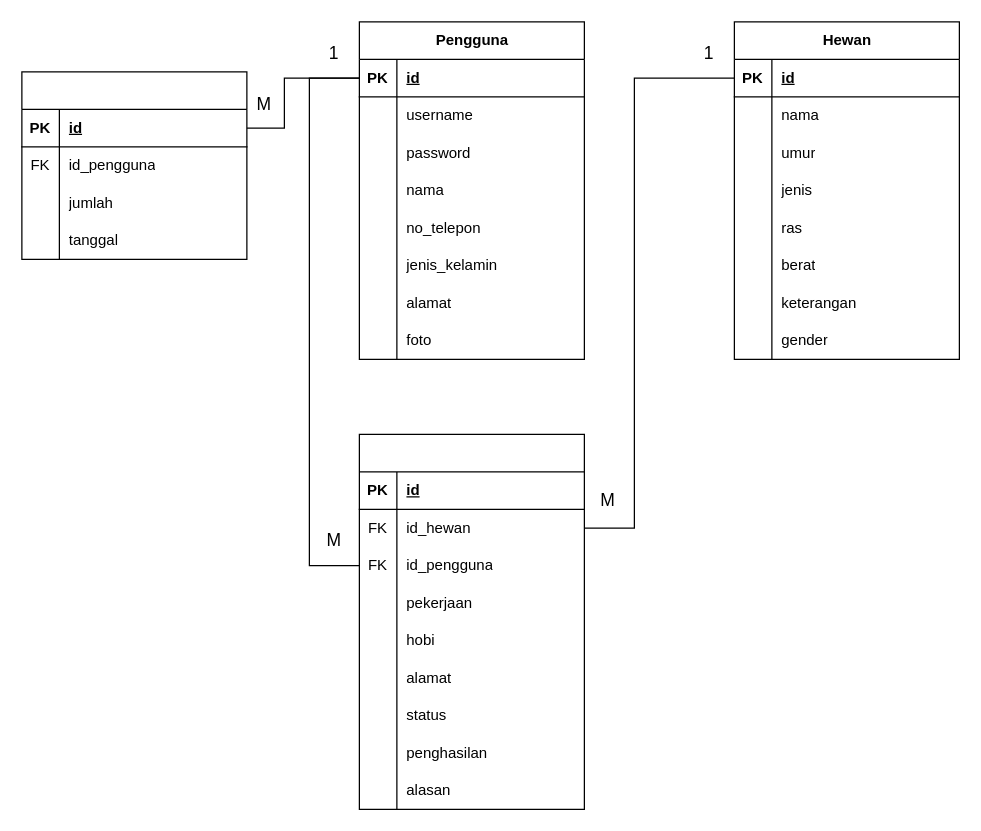
Image size: 981x831. Some labels were removed from this diagram. The shapes that lost their labels are listed below. From the top down, each one's box as (x1, y1, x2, y2) in pixels, then its label:
(21, 71, 247, 259): Donasi
(358, 433, 584, 809): Adopsi
